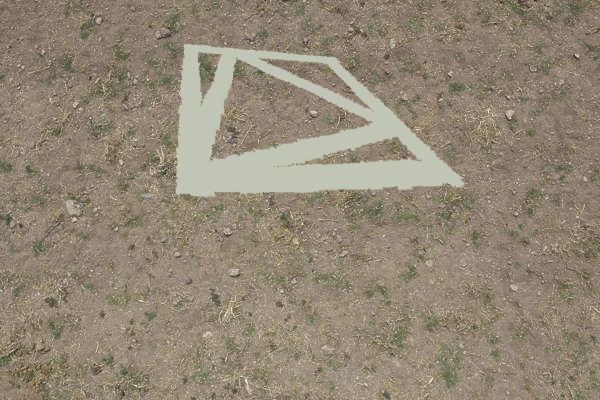marker: (170, 37, 468, 208)
